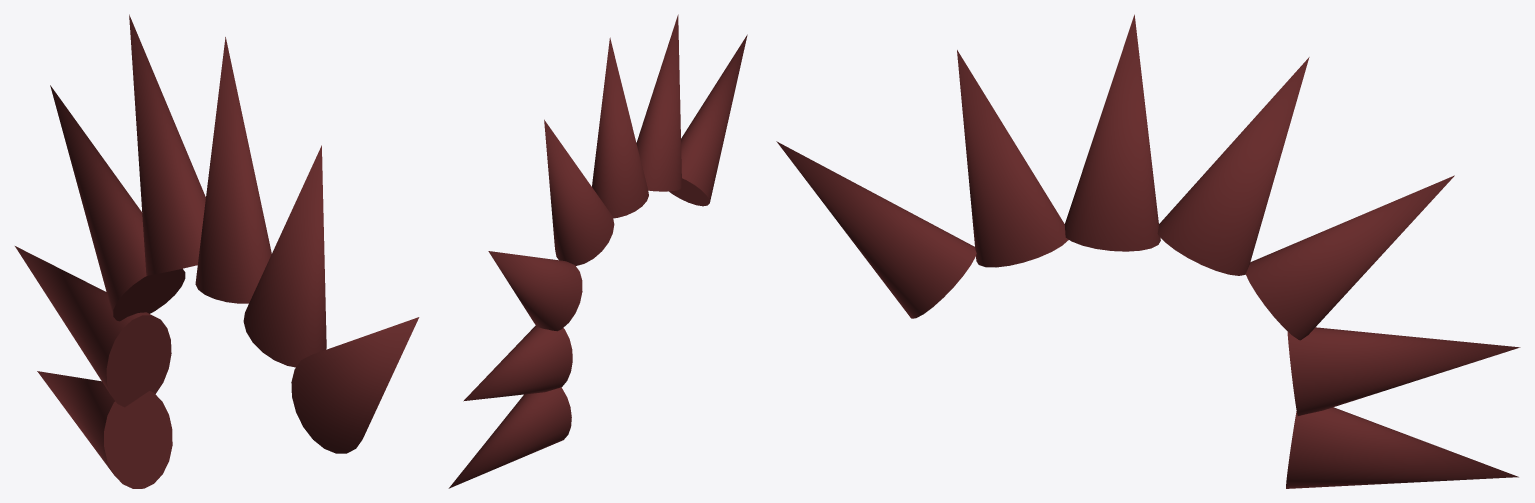
The model's file is SpikeHair.fbx.
The picture shows the model from 3 angles, left to right: view 1: azimuth 30°, elevation 25°; view 2: azimuth 150°, elevation 25°; view 3: azimuth 270°, elevation 25°; orthographic projection. The views are drawn at different scales.
Parts seen in each view (by area): view 1: SpikeHair; view 2: SpikeHair; view 3: SpikeHair.
Boxes of the visible parts, bbox=[...] form: SpikeHair: bbox=[15, 14, 419, 488]; SpikeHair: bbox=[448, 14, 747, 488]; SpikeHair: bbox=[776, 14, 1520, 488].
Size of the model in its own units: 0.3029 by 2.19 by 3.13.
